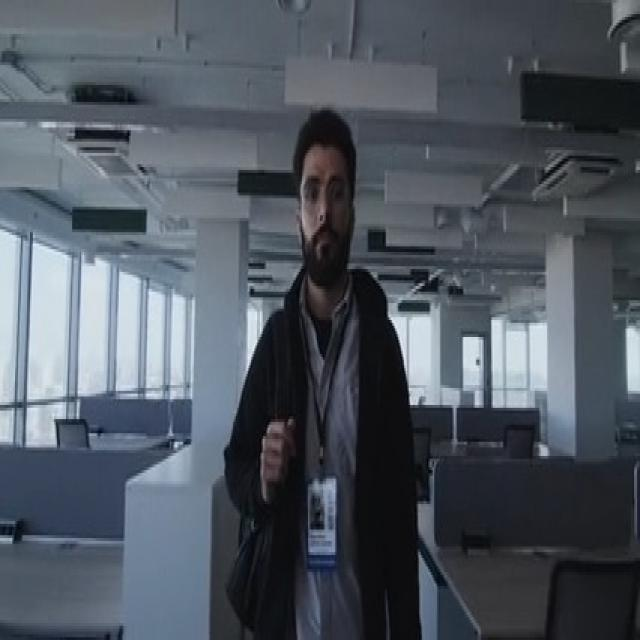Jacket_Wearer: (214, 243, 423, 640)
Person: (216, 94, 421, 640)
